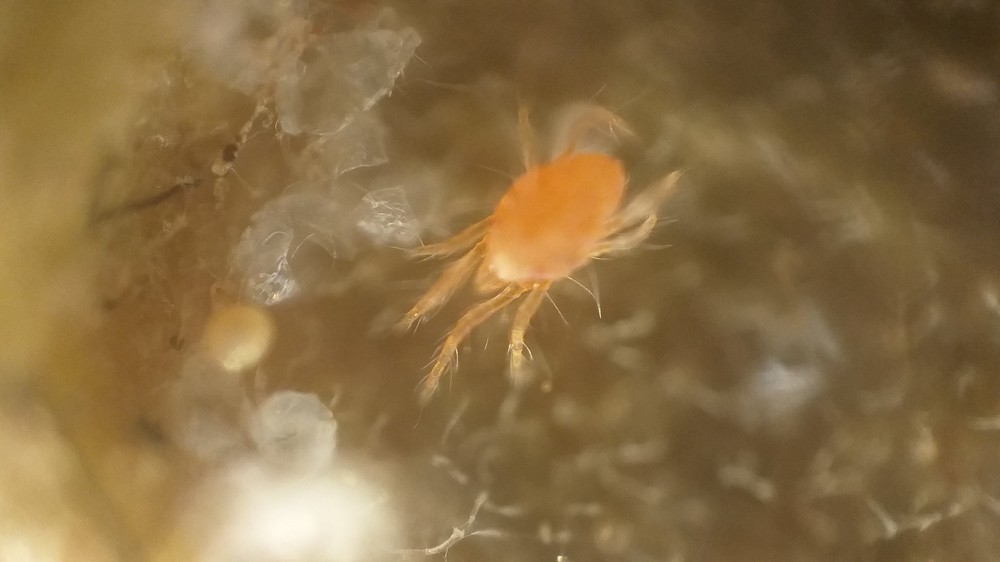Aracnido Rojo: (372, 77, 707, 426)
